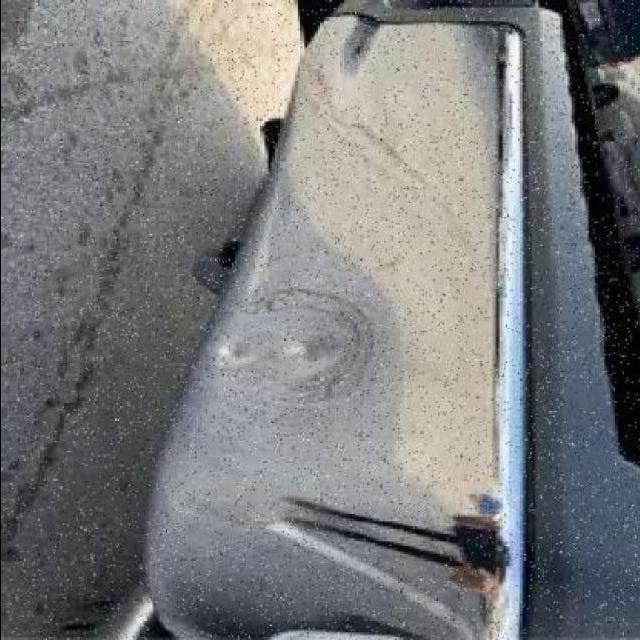rear-bumper-dent: (108, 213, 534, 626)
